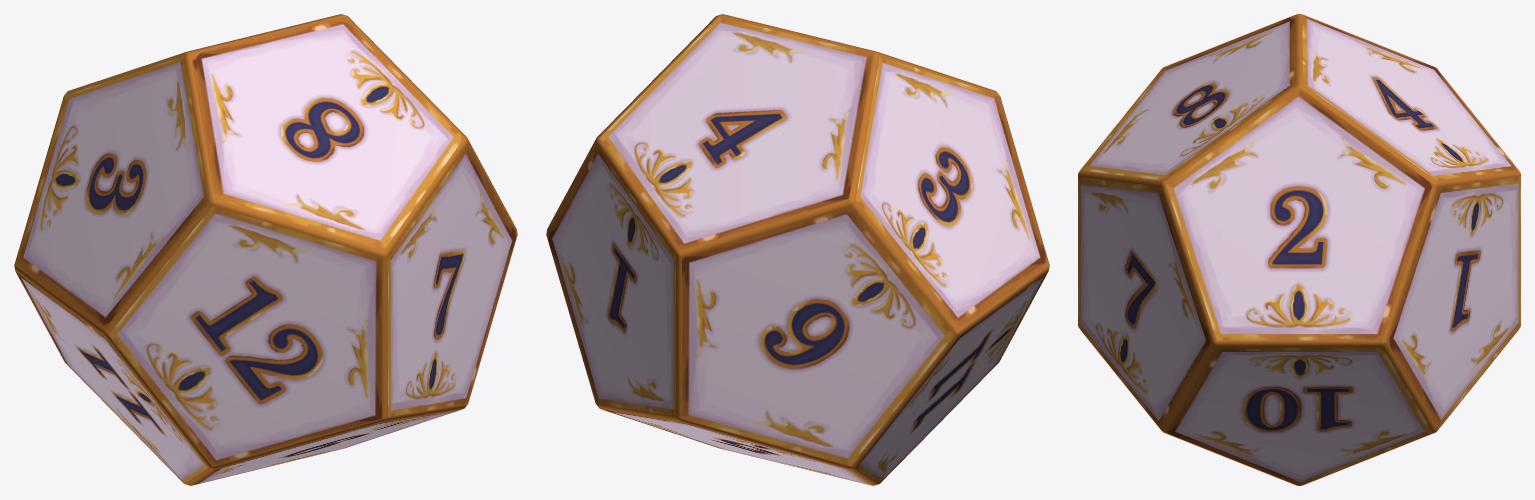
Rendered from d12-urik.glb.
3 renders of one model, left to right at view 1: azimuth 30°, elevation 25°; view 2: azimuth 150°, elevation 25°; view 3: azimuth 270°, elevation 25°, orthographic. The views are drawn at different scales.
Visible parts, largest first — view 1: Mesh_0; view 2: Mesh_0; view 3: Mesh_0.
Part boxes in pixels (<box>): Mesh_0: <box>14,14,517,485</box>; Mesh_0: <box>546,14,1049,485</box>; Mesh_0: <box>1078,14,1520,485</box>.
Bounding box in the file's own units: 167 × 167 × 167.
Materials: 1 (1 with a texture image).
